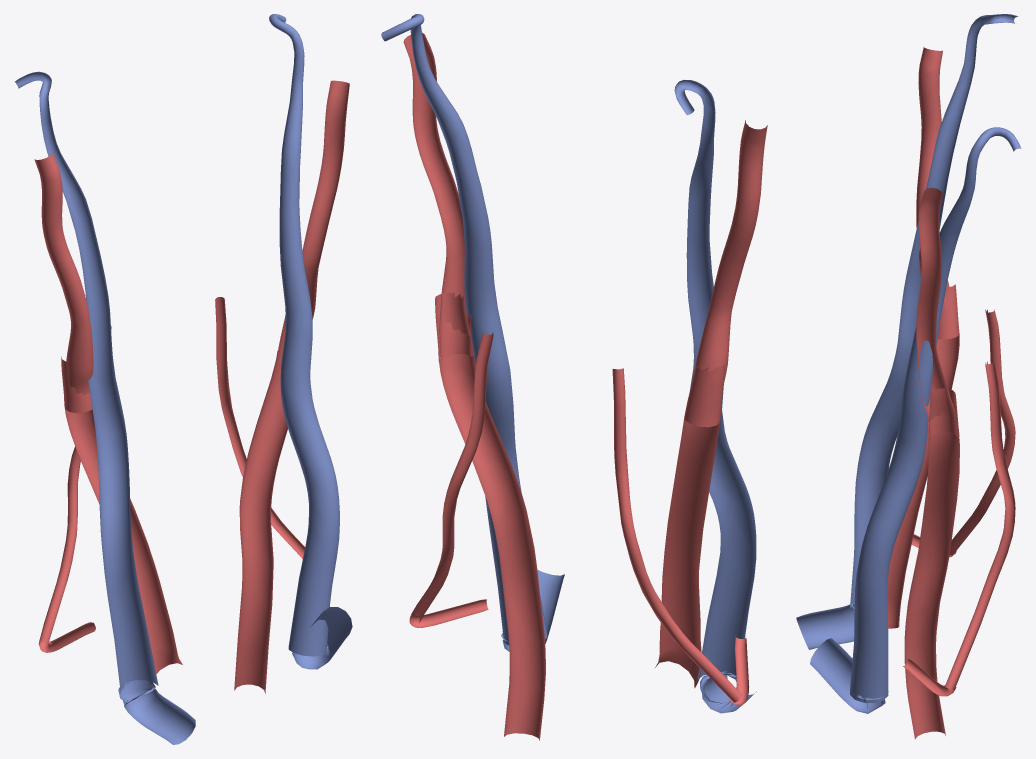
Rendered from zanatomy-neckvessels.glb.
3 renders of one model, left to right at view 1: azimuth 30°, elevation 25°; view 2: azimuth 150°, elevation 25°; view 3: azimuth 270°, elevation 25°, orthographic. The views are drawn at different scales.
Visible parts, largest first — view 1: zv_ijv_r, zv_ijv_l, zv_cca_l, zv_eca_r, zv_cca_r, zv_eca_l, zv_va_r, zv_va_l, zv_ica_r; view 2: zv_ijv_r, zv_cca_l, zv_ijv_l, zv_cca_r, zv_eca_l, zv_eca_r, zv_va_r, zv_va_l, zv_ica_r, zv_ica_l; view 3: zv_ijv_l, zv_ijv_r, zv_cca_l, zv_eca_l, zv_va_l, zv_cca_r, zv_eca_r, zv_va_r, zv_ica_r, zv_ica_l.
Part boxes in pixels (<box>): zv_ijv_r: <box>15,71,195,744</box>; zv_ijv_l: <box>269,14,352,669</box>; zv_cca_l: <box>234,349,287,693</box>; zv_eca_r: <box>34,152,93,394</box>; zv_cca_r: <box>64,407,182,673</box>; zv_eca_l: <box>279,80,349,351</box>; zv_va_r: <box>38,326,111,652</box>; zv_va_l: <box>215,297,305,558</box>; zv_ica_r: <box>61,356,92,413</box>; zv_ijv_r: <box>674,79,756,713</box>; zv_cca_l: <box>439,354,545,740</box>; zv_ijv_l: <box>381,14,564,651</box>; zv_cca_r: <box>655,416,719,688</box>; zv_eca_l: <box>403,32,472,360</box>; zv_eca_r: <box>691,120,767,385</box>; zv_va_r: <box>612,368,749,704</box>; zv_va_l: <box>409,332,493,627</box>; zv_ica_r: <box>684,364,725,427</box>; zv_ica_l: <box>435,292,474,360</box>; zv_ijv_l: <box>810,127,1021,713</box>; zv_ijv_r: <box>796,14,1018,649</box>; zv_cca_l: <box>904,432,959,739</box>; zv_eca_l: <box>916,187,957,439</box>; zv_va_l: <box>903,361,1015,696</box>; zv_cca_r: <box>887,335,959,628</box>; zv_eca_r: <box>916,47,949,320</box>; zv_va_r: <box>911,309,1015,557</box>; zv_ica_r: <box>937,284,959,339</box>; zv_ica_l: <box>928,386,959,439</box>.
Size of the model in its own units: 0.0919 by 0.179 by 0.0571.
